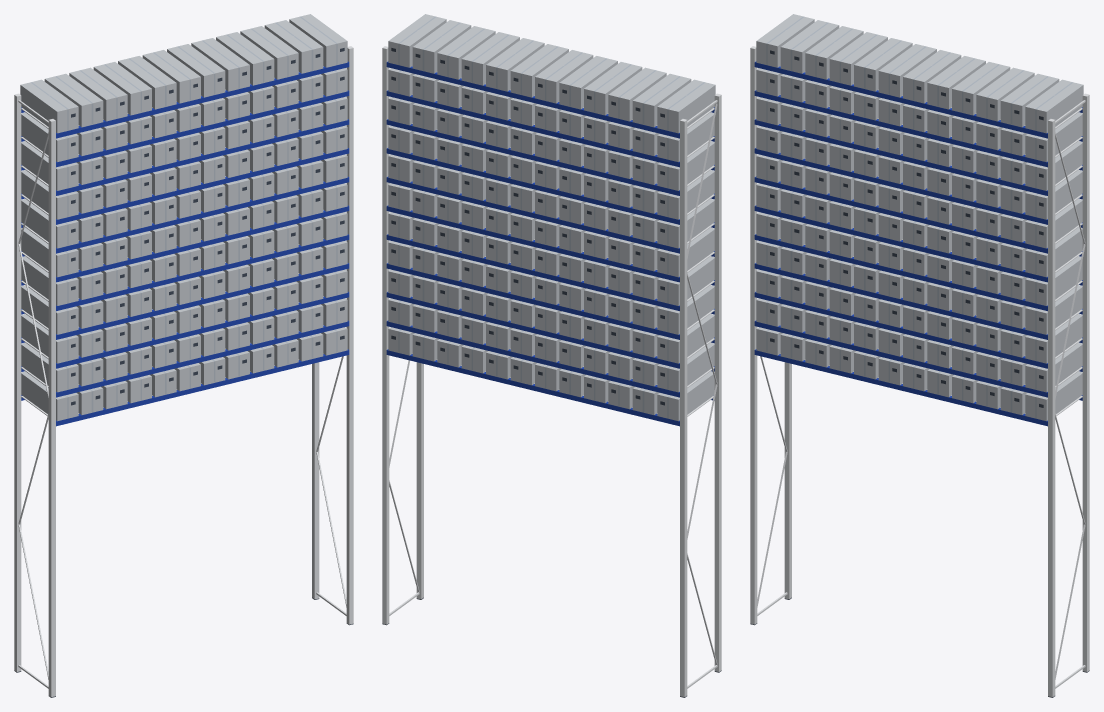
File: SM_MPR_CADRack_F17P1_W192_Passage_LOD1.fbx
3 views of the same model, side by side, from view 1: azimuth 30°, elevation 25°; view 2: azimuth 150°, elevation 25°; view 3: azimuth 330°, elevation 25° (orthographic).
Visible parts, largest first — view 1: SM_MPR_CADRack_F17P1_W192_Passage_LOD1; view 2: SM_MPR_CADRack_F17P1_W192_Passage_LOD1; view 3: SM_MPR_CADRack_F17P1_W192_Passage_LOD1.
Part boxes in pixels (box(x1,y1,x2,y2)): SM_MPR_CADRack_F17P1_W192_Passage_LOD1: box(14, 14, 353, 697); SM_MPR_CADRack_F17P1_W192_Passage_LOD1: box(382, 14, 721, 697); SM_MPR_CADRack_F17P1_W192_Passage_LOD1: box(750, 14, 1089, 697).
Bounding box in the file's own units: 503 × 107 × 929.
